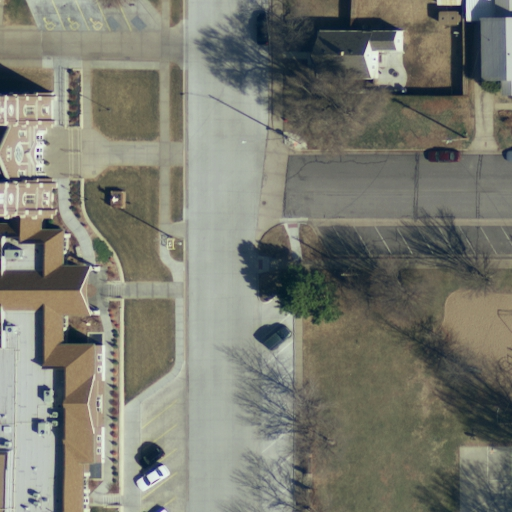DT: (161, 227, 190, 257), (436, 130, 474, 150), (274, 124, 301, 152), (334, 263, 364, 288)
